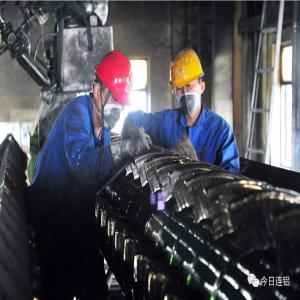red: (93, 50, 135, 131)
yellow: (169, 46, 206, 118)
